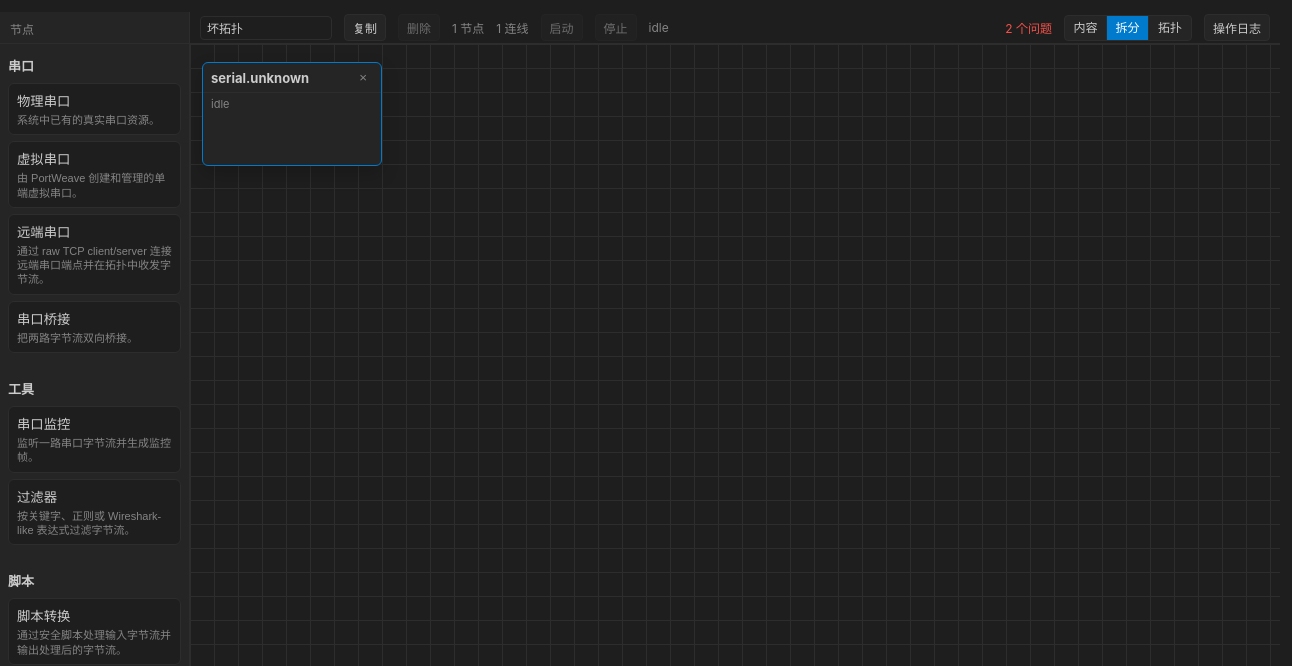
Test: SerialGraphPanel › renders unknown node fallbacks validation errors and sparse operation log fields
Click the button with test id "serial-graph-open-operation-log". click: [1237, 28]
box: top-left (1204, 14), bottom-right (1270, 41)
(page scrolled)
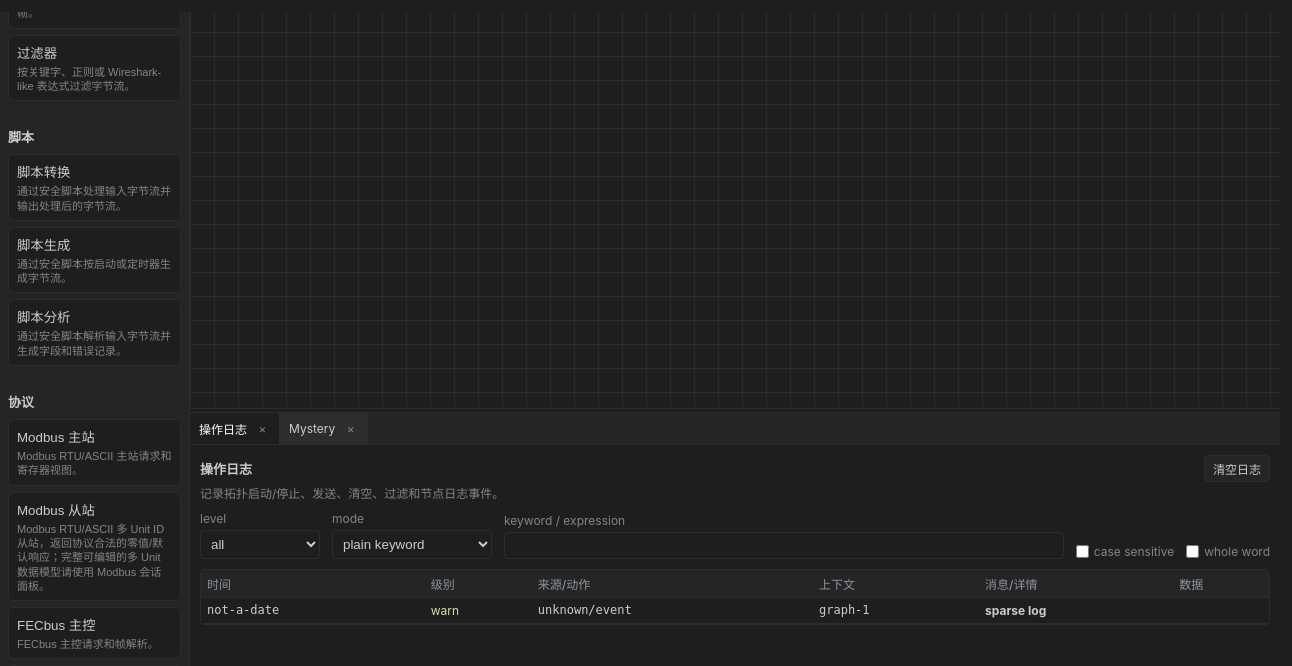
expect the row with test id "serial-operation-log-entry" shows "not-a-date": met, box top-left (207, 602), bottom-right (279, 616)
expect the row with test id "serial-operation-log-entry" shows "unknown/event": met, box top-left (538, 602), bottom-right (632, 616)
expect the row with test id "serial-operation-log-entry" shows "sparse log": met, box top-left (985, 602), bottom-right (1046, 618)
